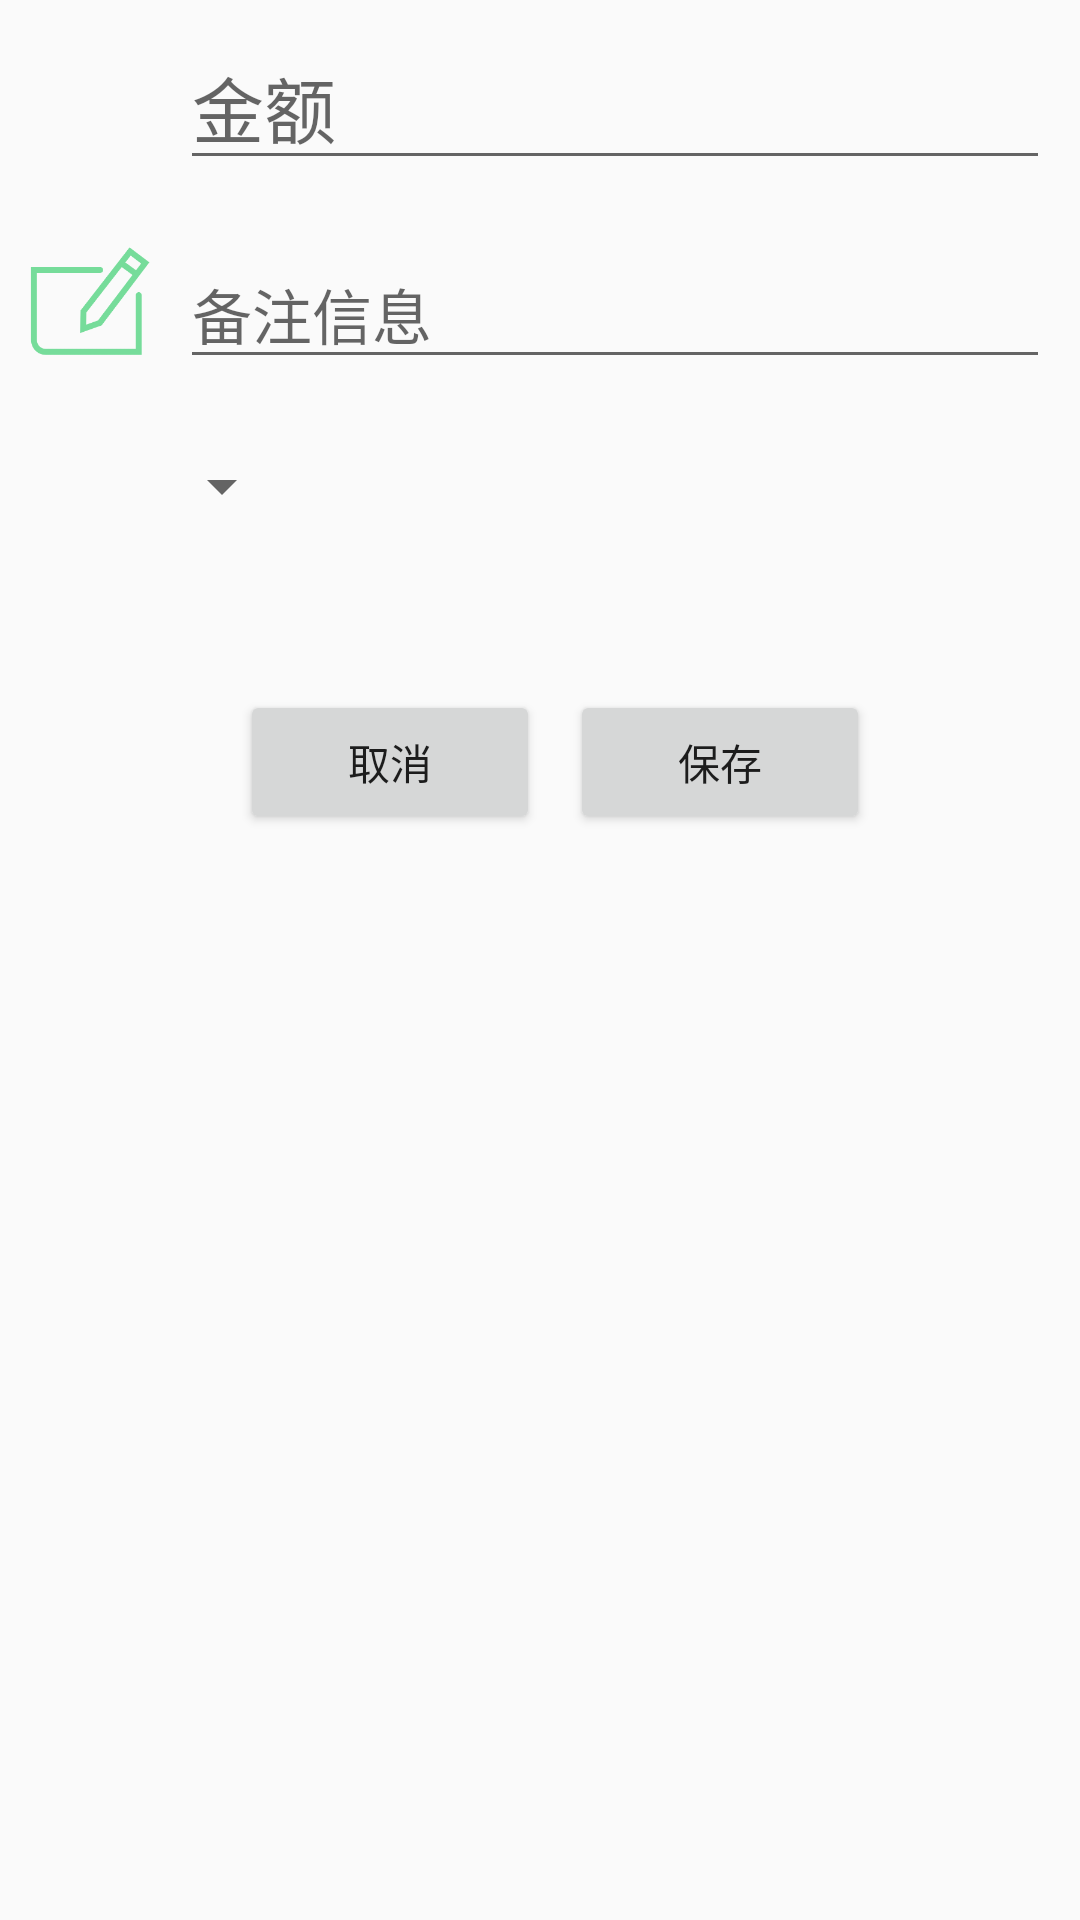

Named icons in this screenshot (1080px×1920px) and their bounding boxes, (x1, y1, x2, y2):
cost remarks: (31, 247, 150, 355)
